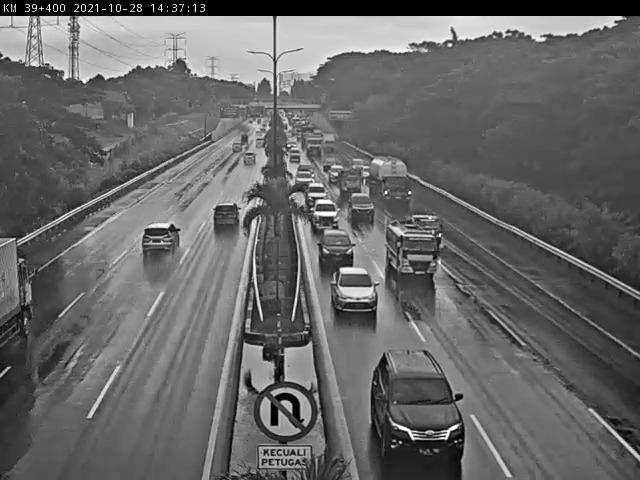big truck: (0, 227, 39, 393), (368, 155, 411, 204)
car: (369, 345, 461, 461), (331, 265, 377, 314), (410, 210, 449, 248), (318, 228, 355, 268), (140, 221, 181, 255), (347, 192, 376, 222), (311, 199, 339, 229), (213, 201, 240, 227), (306, 181, 326, 205), (294, 170, 315, 190), (329, 166, 343, 185), (243, 152, 257, 167), (289, 147, 301, 162), (231, 142, 242, 153)
small truck: (383, 219, 439, 278), (337, 168, 364, 195)
